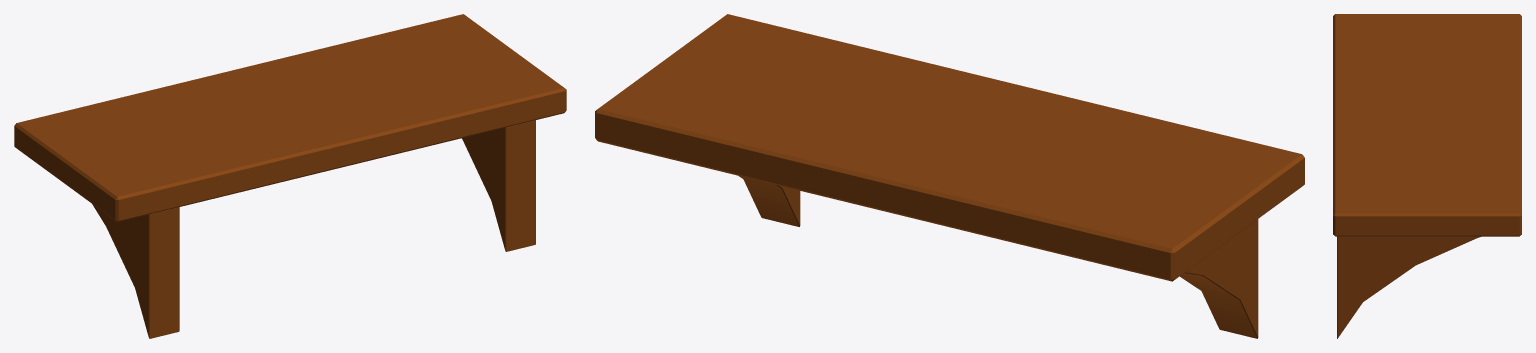
File: shelf_001.FBX
The picture shows the model from 3 angles, left to right: view 1: azimuth 30°, elevation 25°; view 2: azimuth 150°, elevation 25°; view 3: azimuth 270°, elevation 25°; orthographic projection. The views are drawn at different scales.
Visible parts, largest first — view 1: Box002, Box004, Box003; view 2: Box002, Box004, Box003; view 3: Box002, Box003.
Boxes of the visible parts, bbox=[...] form: Box002: bbox=[14, 14, 566, 222]; Box004: bbox=[92, 204, 179, 338]; Box003: bbox=[462, 120, 535, 251]; Box002: bbox=[595, 14, 1304, 281]; Box004: bbox=[1180, 219, 1258, 338]; Box003: bbox=[739, 176, 800, 226]; Box002: bbox=[1333, 14, 1521, 236]; Box003: bbox=[1337, 236, 1480, 338].
Bounding box in the file's own units: 0.6299 × 0.2015 × 0.2499.
